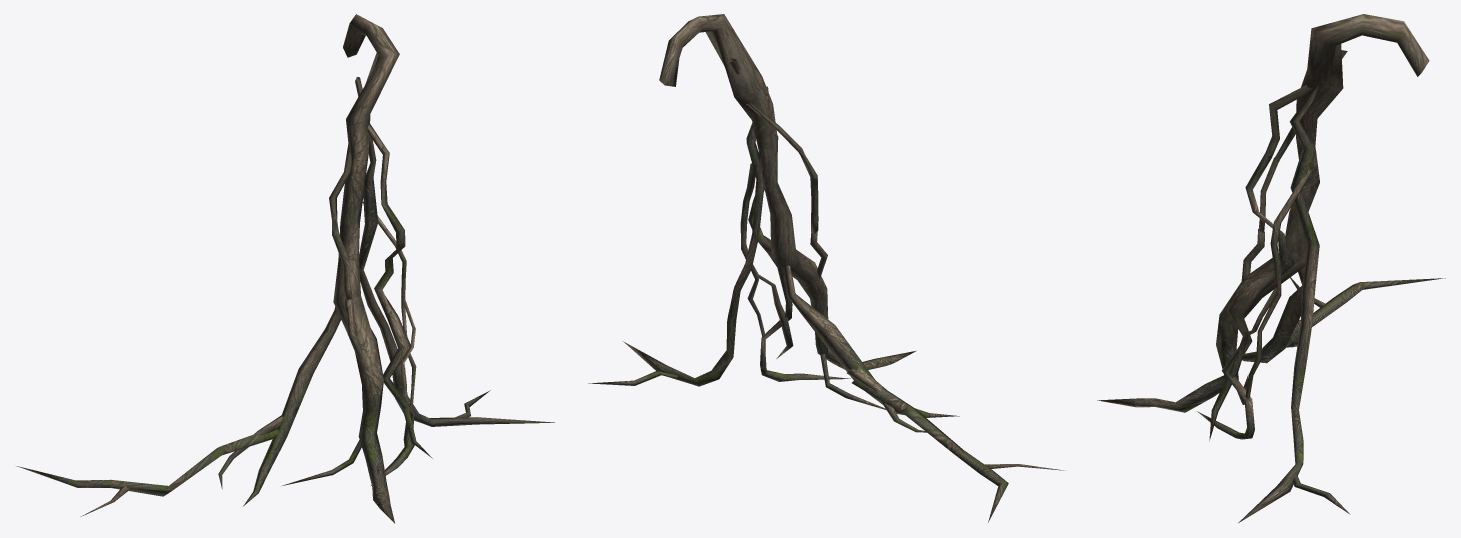
The model's file is 4003_Item_shuteng_2.FBX.
The picture shows the model from 3 angles, left to right: view 1: azimuth 30°, elevation 25°; view 2: azimuth 150°, elevation 25°; view 3: azimuth 270°, elevation 25°; orthographic projection. The views are drawn at different scales.
Visible parts, largest first — view 1: 4003_Item_shuteng_2; view 2: 4003_Item_shuteng_2; view 3: 4003_Item_shuteng_2.
Boxes of the visible parts, box(x1,y1,x2,y2) form: 4003_Item_shuteng_2: box(16, 14, 554, 523); 4003_Item_shuteng_2: box(588, 14, 1066, 522); 4003_Item_shuteng_2: box(1097, 14, 1445, 522).
Size of the model in its own units: 818 by 483 by 679.
Materials: 1 (1 with a texture image).
